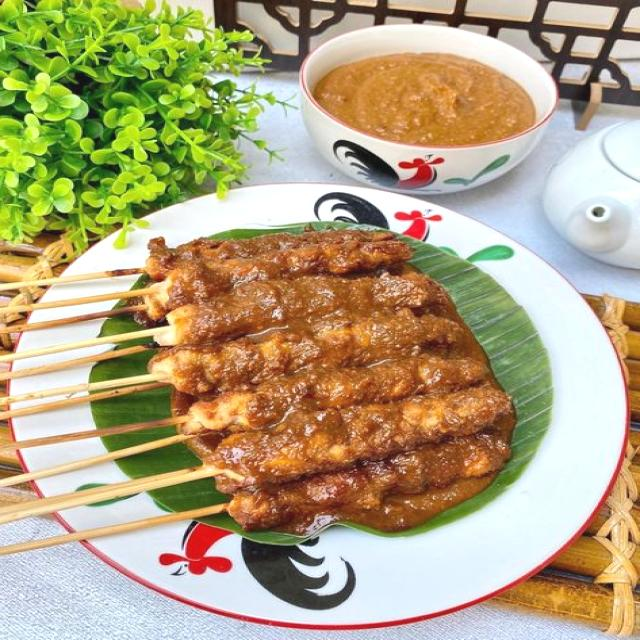sate: (0, 225, 516, 562)
